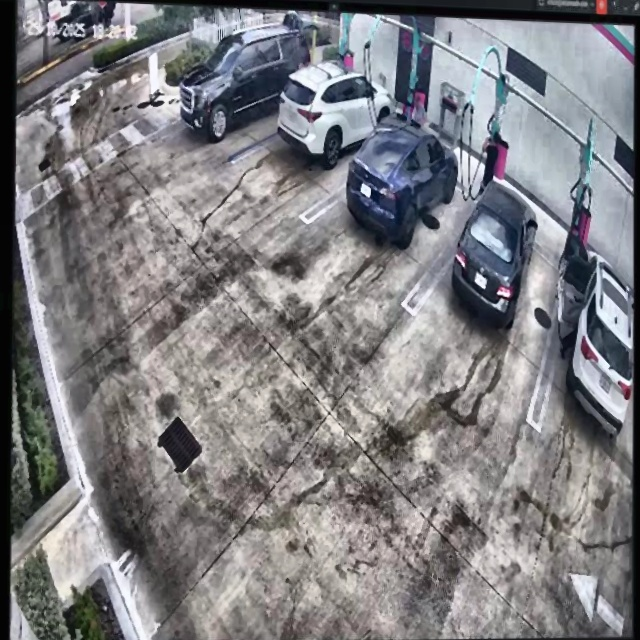Car: (347, 113, 460, 246), (453, 178, 538, 328), (278, 61, 394, 169)
